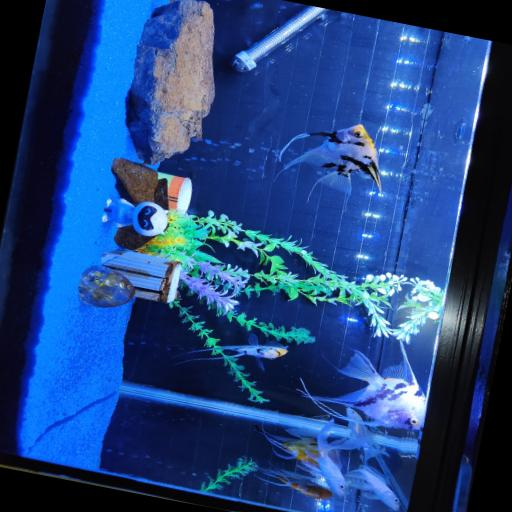Fish: (300, 340, 425, 429), (276, 124, 380, 192), (317, 418, 369, 495), (177, 333, 287, 368), (255, 424, 318, 473), (254, 467, 331, 498), (346, 465, 399, 509), (348, 420, 388, 461)
